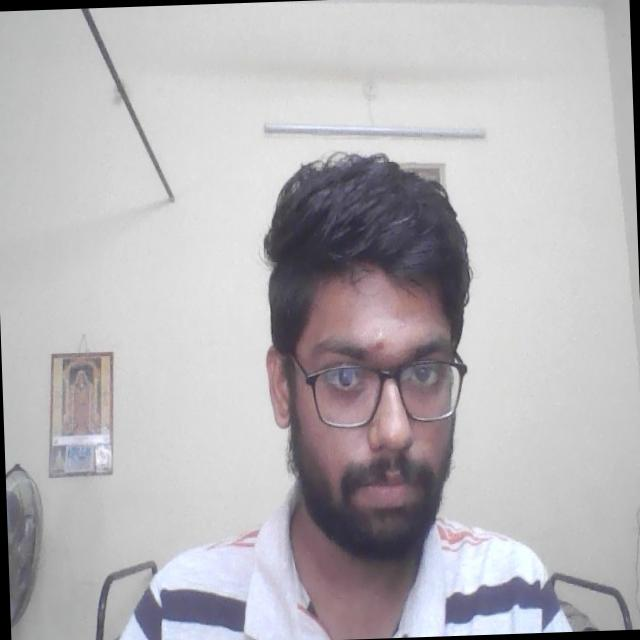Focused: (278, 287, 466, 522)
